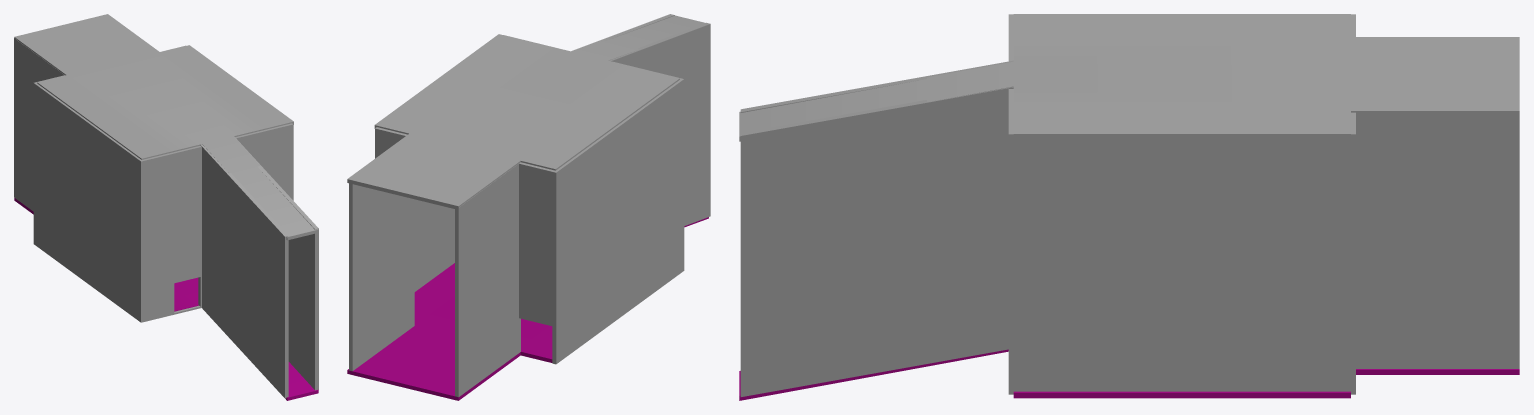
The model's file is DG_Droit_2.fbx.
The picture shows the model from 3 angles, left to right: view 1: azimuth 30°, elevation 25°; view 2: azimuth 150°, elevation 25°; view 3: azimuth 270°, elevation 25°; orthographic projection. The views are drawn at different scales.
Visible parts, largest first — view 1: pCube10; view 2: pCube10; view 3: pCube10.
Boxes of the visible parts, x1=… form: pCube10: x1=14, y1=14, x2=318, y2=400; pCube10: x1=347, y1=14, x2=710, y2=400; pCube10: x1=739, y1=14, x2=1519, y2=400.
Bounding box in the file's own units: 30.6 × 36.89 × 82.99.
